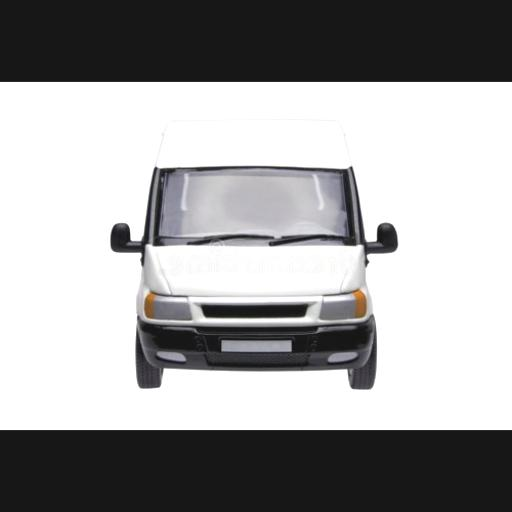van: (111, 121, 396, 387)
